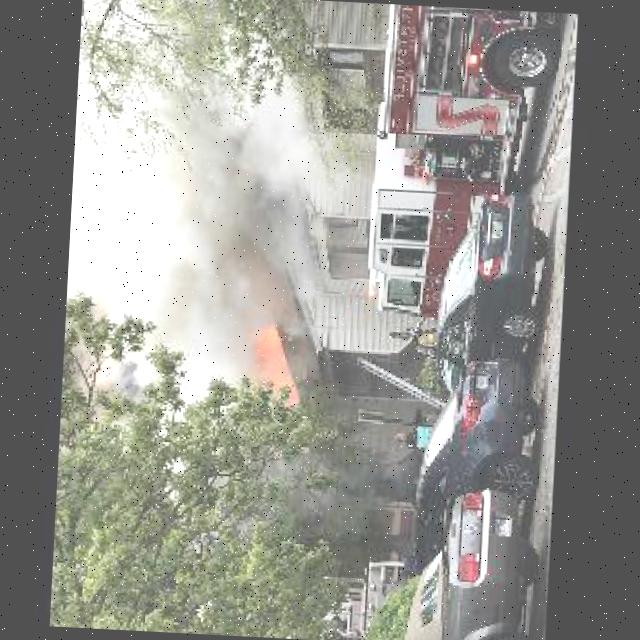fire: (245, 321, 303, 408)
